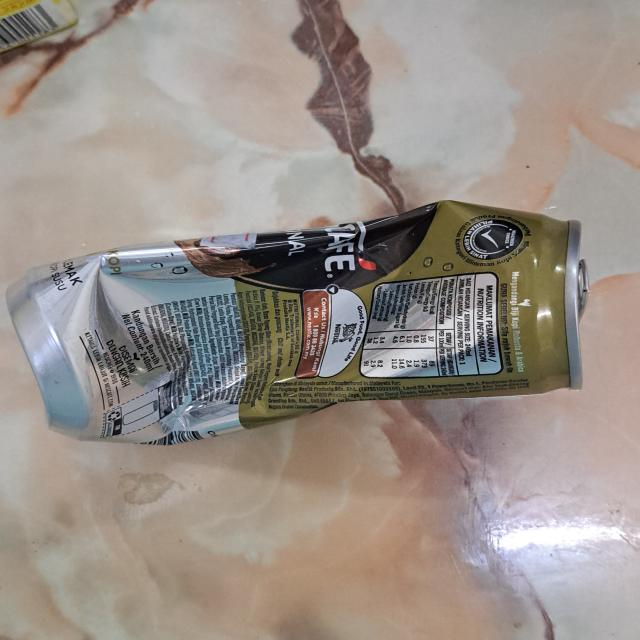can: (0, 198, 585, 444)
